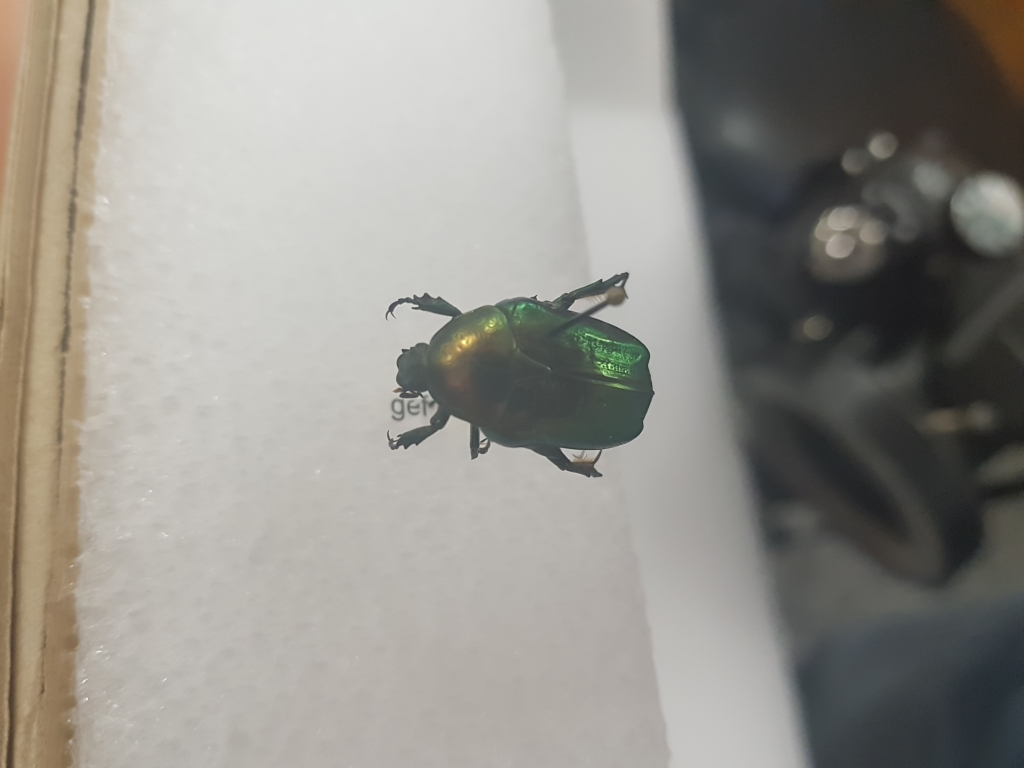Cetonia_aurata: (376, 278, 667, 492)
